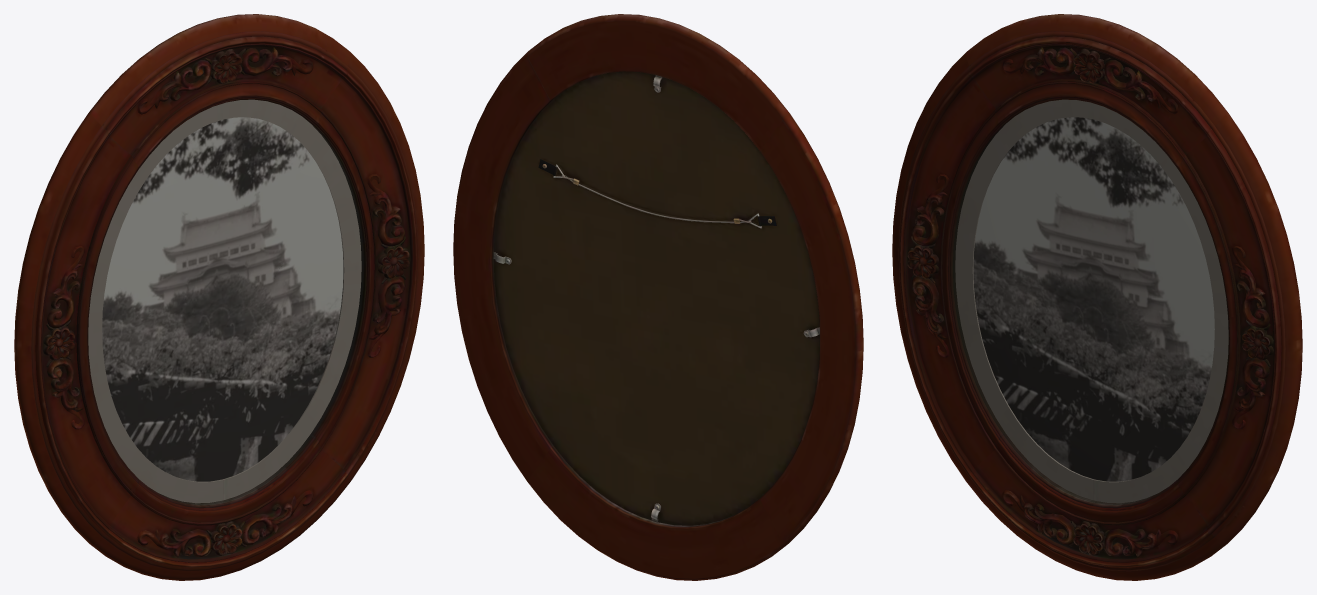
The model's file is hanging_picture_frame_03.glb.
3 renders of one model, left to right at view 1: azimuth 30°, elevation 25°; view 2: azimuth 150°, elevation 25°; view 3: azimuth 330°, elevation 25°, orthographic.
Parts seen in each view (by area): view 1: hanging_picture_frame_03, hanging_picture_frame_03_glass; view 2: hanging_picture_frame_03; view 3: hanging_picture_frame_03, hanging_picture_frame_03_glass.
Boxes of the visible parts, x1,y1,x2,y2 form: hanging_picture_frame_03: (14,14,424,580); hanging_picture_frame_03_glass: (88,100,363,504); hanging_picture_frame_03: (453,14,863,580); hanging_picture_frame_03: (892,14,1302,580); hanging_picture_frame_03_glass: (953,100,1228,504).
Bounding box in the file's own units: 0.385 × 0.5024 × 0.0318.
Materials: 3 (2 with a texture image).
